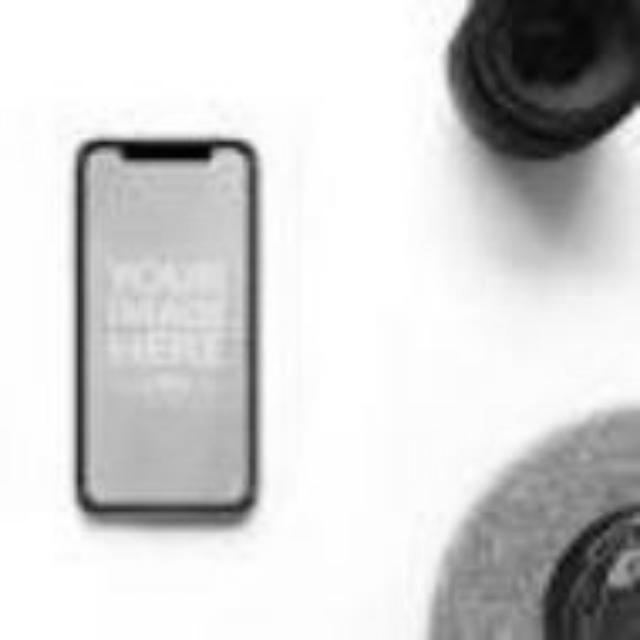fake: (73, 130, 261, 514)
